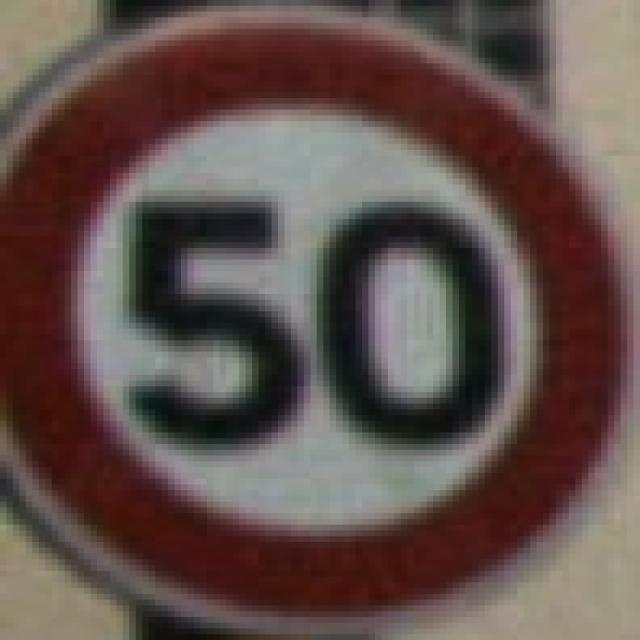speed_50: (0, 0, 634, 634)
